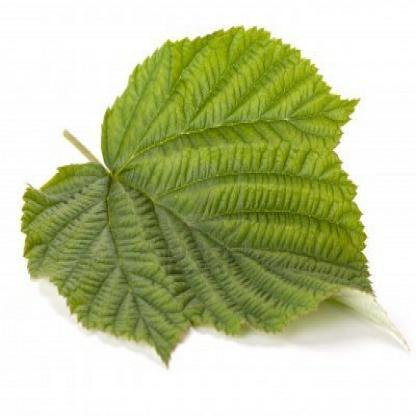Raspberry leaf: (19, 21, 379, 362)
